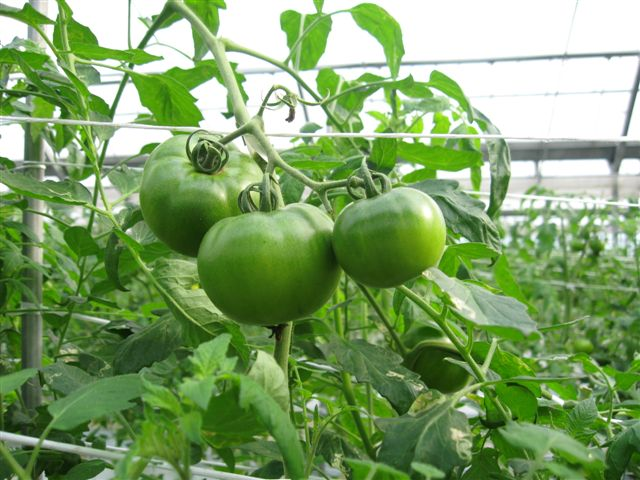stems: (203, 124, 252, 166), (322, 175, 377, 198), (258, 163, 275, 211)
tomato: (195, 201, 341, 327), (138, 131, 271, 257), (331, 186, 447, 291)
